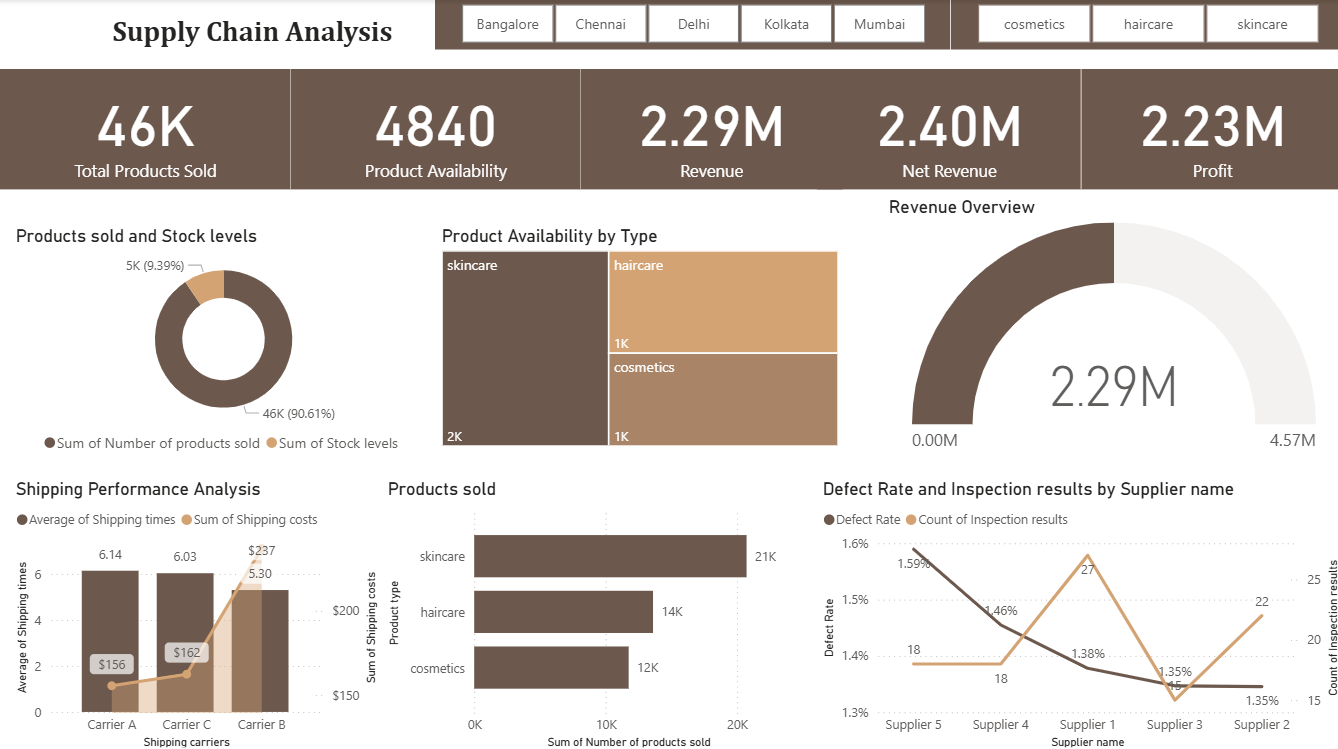

Layout of this report page (visuals, bound fields, positions):
{"tool":"powerbi","page":{"name":"Page 1","canvas":[1280,720],"ordinal":0},"visuals":[{"type":"barChart","title":"Products sold","fields":{"Category":["supply_chain_data.Product type"],"Y":["Sum(supply_chain_data.Number of products sold)"]},"box":[363.8,458.1,396.9,261.3],"z":0},{"type":"donutChart","title":"Products sold and Stock levels","fields":{"Y":["Sum(supply_chain_data.Number of products sold)","Sum(supply_chain_data.Stock levels)"]},"box":[9.9,216.6,405.2,226.6],"z":1000},{"type":"lineChart","title":"Defect Rate and Inspection results by Supplier name","fields":{"Category":["supply_chain_data.Supplier name"],"Y":["StandardDeviation(supply_chain_data.DRC)"],"Y2":["CountNonNull(supply_chain_data.Inspection results)"]},"box":[778.9,458.1,501.1,261.3],"z":2000},{"type":"gauge","title":"Revenue Overview","fields":{"Y":["supply_chain_data.Revenue"]},"box":[841.8,190.2,438.2,253],"z":3000},{"type":"card","fields":{"Values":["Sum(supply_chain_data.Number of products sold)"]},"box":[0,68,276.9,115],"z":4000},{"type":"card","fields":{"Values":["supply_chain_data.Revenue"]},"box":[552.2,68,249.4,115],"z":5000},{"type":"card","fields":{"Values":["Sum(supply_chain_data.Availability)"]},"box":[276.9,68,275.3,115],"z":6000},{"type":"card","fields":{"Values":["supply_chain_data.Net Revenue"]},"box":[778.8,68,251,115],"z":7000},{"type":"card","fields":{"Values":["supply_chain_data.Profit"]},"box":[1029.8,68,249.4,115],"z":8000},{"type":"slicer","fields":{"Values":["supply_chain_data.Product type"]},"box":[905.1,0,374,50.2],"z":9000},{"type":"textbox","box":[0,11.3,480.9,56.7],"z":10000},{"type":"treemap","title":"Product Availability by Type","fields":{"Group":["supply_chain_data.Product type"],"Values":["Sum(supply_chain_data.Availability)"]},"box":[415.1,216.6,387,215],"z":11000},{"type":"lineClusteredColumnComboChart","title":"Shipping Performance Analysis","fields":{"Category":["supply_chain_data.Shipping carriers"],"Y":["Avg(supply_chain_data.Shipping times)"],"Y2":["Sum(supply_chain_data.Shipping costs)"]},"box":[10,458,354,261],"z":12000},{"type":"slicer","fields":{"Values":["supply_chain_data.Location"]},"box":[414.5,0,490.6,50.2],"z":13000}]}

Visuals, with their boxes in screenshot pixels (x1, y1, x2, y2), scaled from the page's 1280x720 canvas onto the 1338x749 screenshot:
"Products sold" barChart: detection(380, 477, 795, 748)
"Products sold and Stock levels" donutChart: detection(10, 225, 434, 461)
"Defect Rate and Inspection results by Supplier name" lineChart: detection(814, 477, 1337, 748)
"Revenue Overview" gauge: detection(880, 198, 1337, 461)
card - Sum(supply_chain_data.Number of products sold): detection(0, 71, 289, 190)
card - supply_chain_data.Revenue: detection(577, 71, 838, 190)
card - Sum(supply_chain_data.Availability): detection(289, 71, 577, 190)
card - supply_chain_data.Net Revenue: detection(814, 71, 1076, 190)
card - supply_chain_data.Profit: detection(1076, 71, 1337, 190)
slicer - supply_chain_data.Product type: detection(946, 0, 1337, 52)
textbox: detection(0, 12, 503, 71)
"Product Availability by Type" treemap: detection(434, 225, 838, 449)
"Shipping Performance Analysis" lineClusteredColumnComboChart: detection(10, 476, 380, 748)
slicer - supply_chain_data.Location: detection(433, 0, 946, 52)
